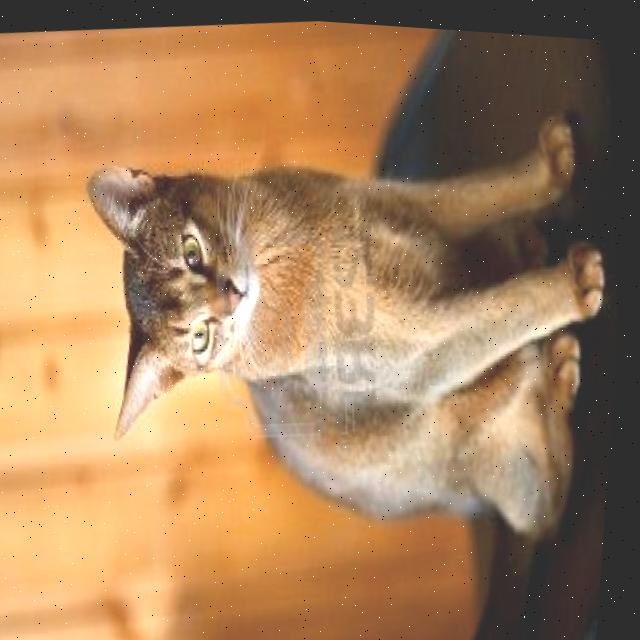Abyssinian: (52, 63, 637, 596)
